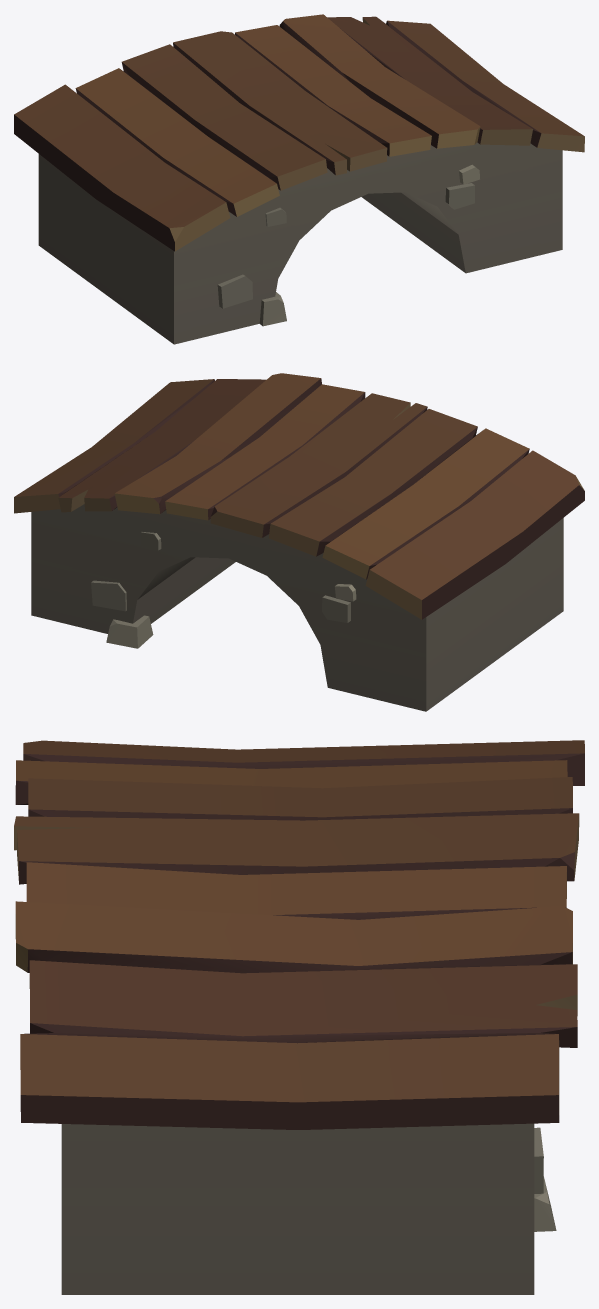
3 views of the same model, one above another, from view 1: azimuth 30°, elevation 25°; view 2: azimuth 150°, elevation 25°; view 3: azimuth 270°, elevation 25° (orthographic). The views are drawn at different scales.
Visible parts, largest first — view 1: mff_ruins_bridge; view 2: mff_ruins_bridge; view 3: mff_ruins_bridge.
Part boxes in pixels (x1,y1,x2,y2): mff_ruins_bridge: (14, 14, 584, 344); mff_ruins_bridge: (14, 373, 584, 711); mff_ruins_bridge: (14, 740, 584, 1294).
Bounding box in the file's own units: 6.81 × 2.56 × 4.71.
Materials: 1 (1 with a texture image).
